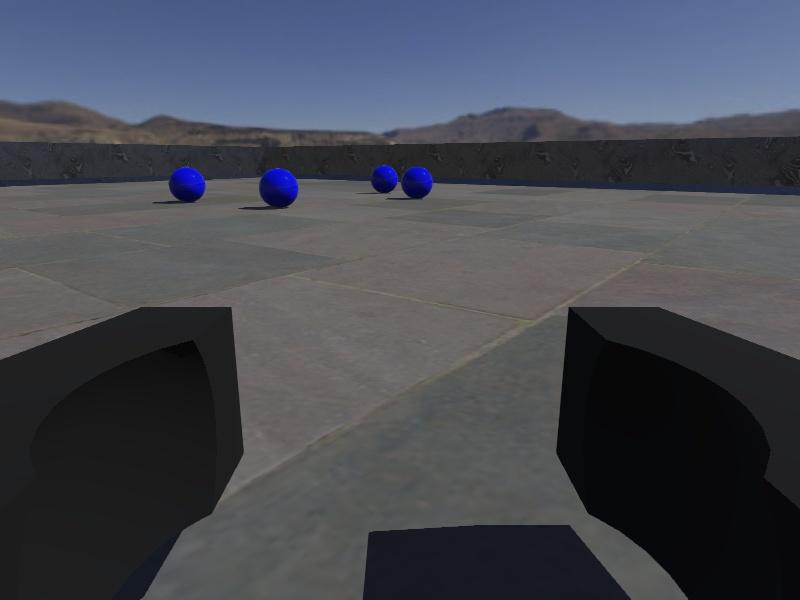blue ball: (259, 167, 298, 208), (168, 166, 206, 203), (402, 165, 433, 198), (370, 165, 398, 193)
